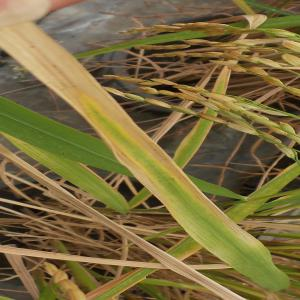Bacterial_Blight: (177, 181, 242, 273)
